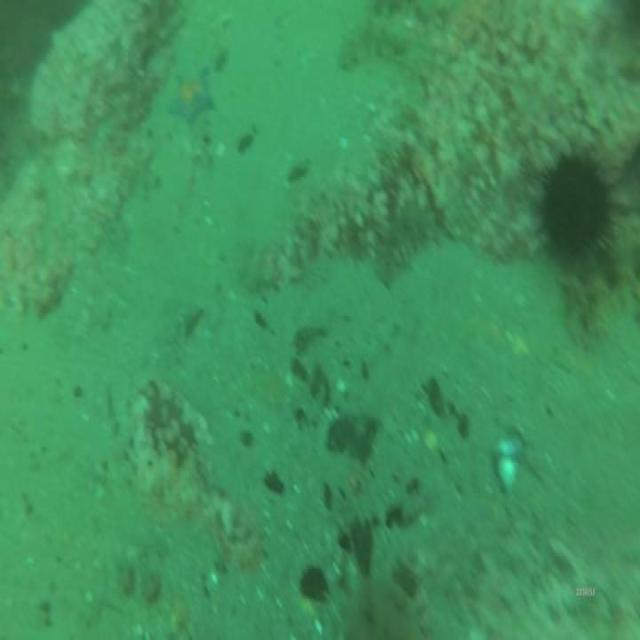echinus: (537, 142, 620, 274)
holothurian: (560, 207, 640, 354), (372, 198, 444, 290), (336, 12, 412, 78)
starfish: (166, 65, 218, 131)
